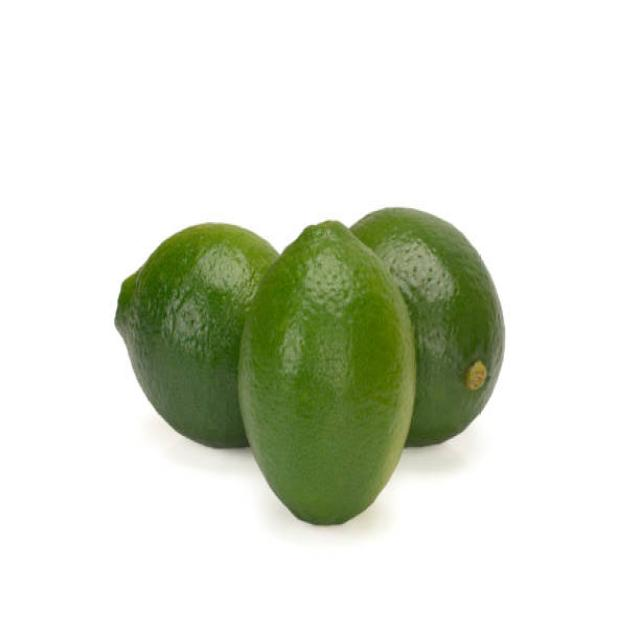Unripe: (237, 220, 414, 524)
